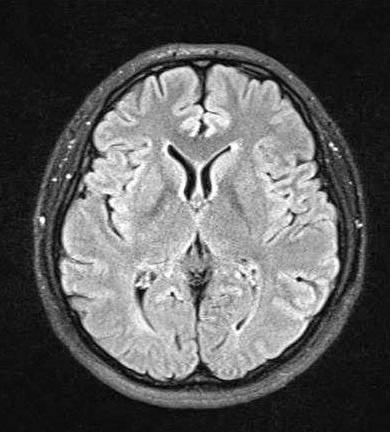Normal_Brain: (1, 35, 388, 432)
